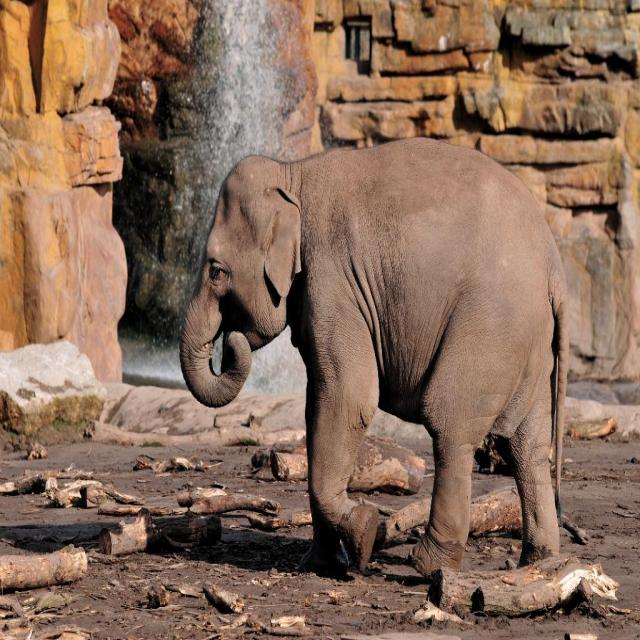Elephant: (172, 129, 580, 596)
